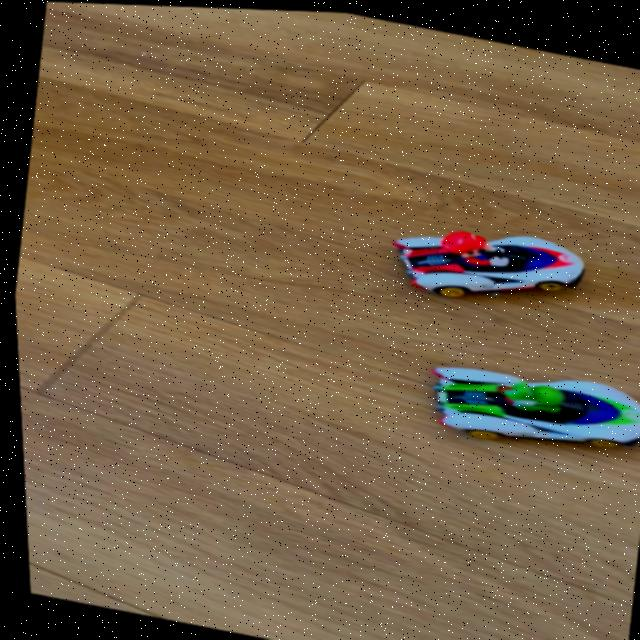mario: (374, 201, 600, 322)
yoshi: (405, 341, 640, 470)
